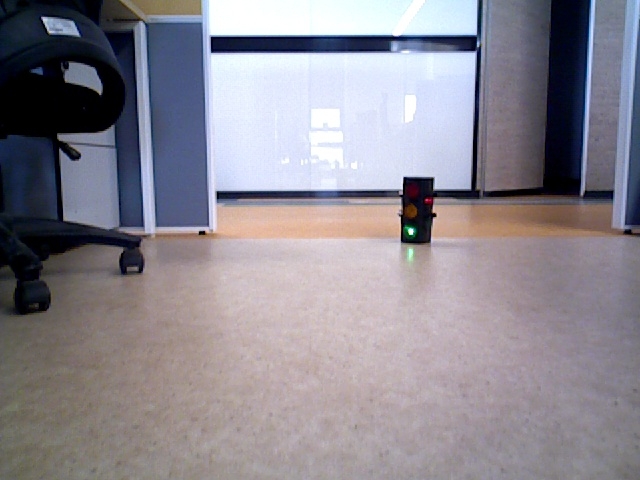green: (403, 176, 427, 237)
